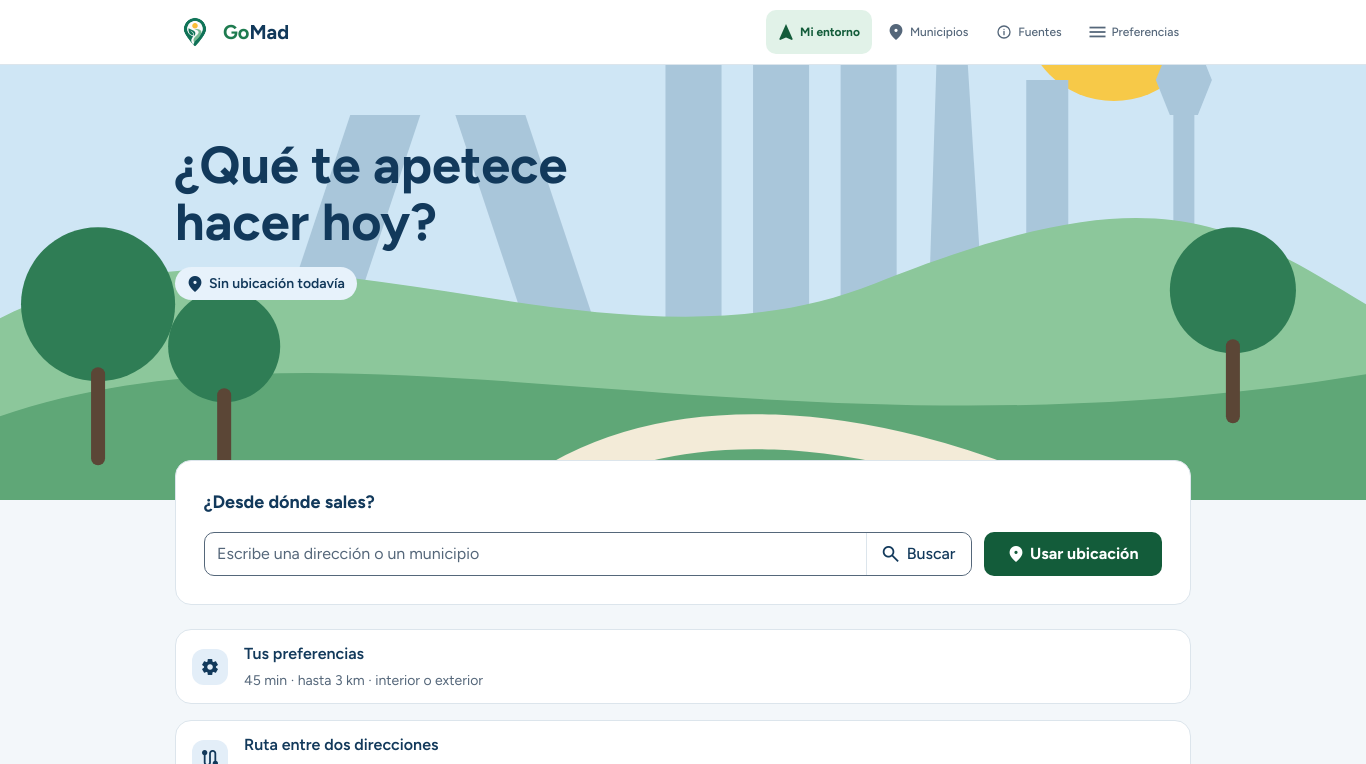
Inicio › sin ubicacion muestra el buscador y preferencias; al activarla aparecen las demás opciones
This screenshot has width=1366, height=764.
Check: the heading "¿Desde dónde sales?" is shown, box [204, 491, 375, 513]
Check: the heading "Elige una actividad" is not shown
Click the button with aria-label "Usar mi ubicación": (1073, 554) [984, 532, 1162, 576]
(page scrolled)
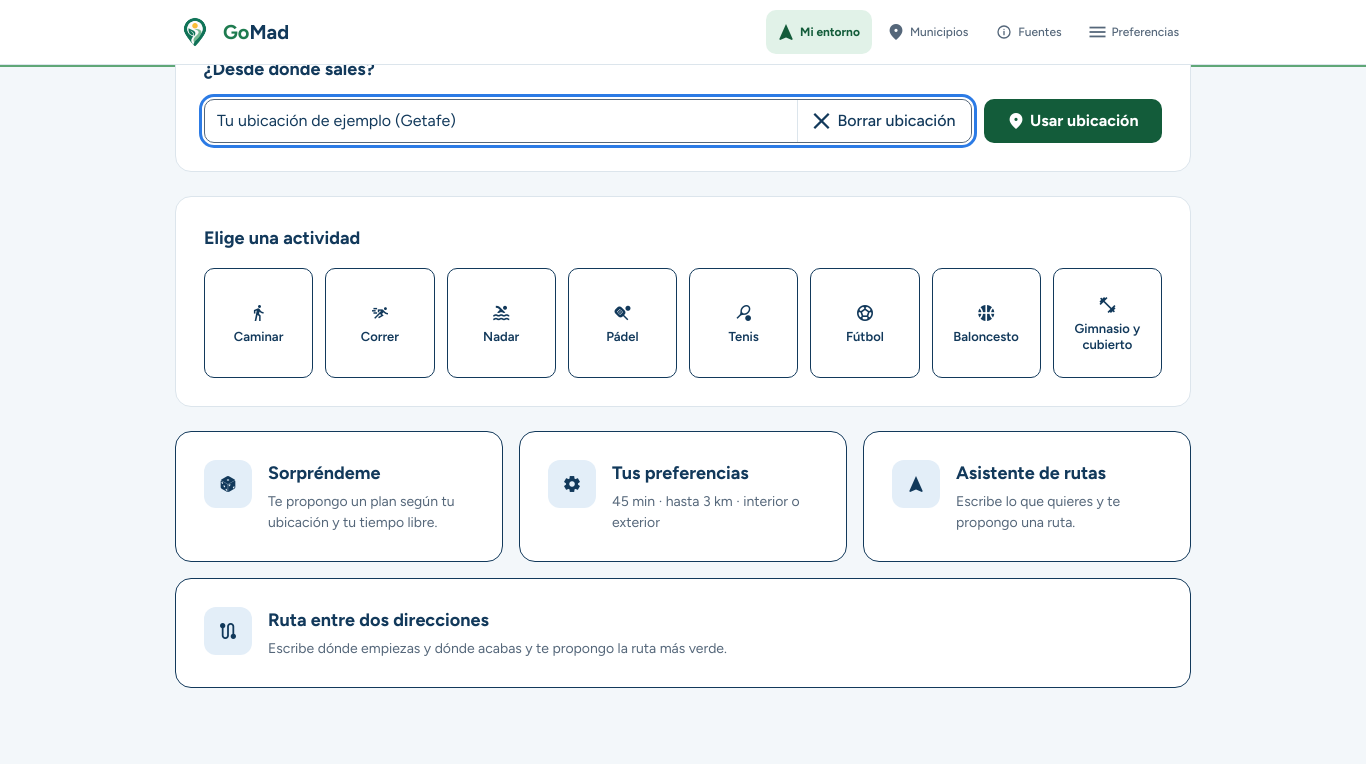
Check: the button "Correr" is shown, box [325, 268, 435, 378]
Check: the button "Sorpréndeme" is shown, box [175, 431, 503, 562]
Check: the link "Asistente de rutas" is shown, box [863, 431, 1191, 562]
